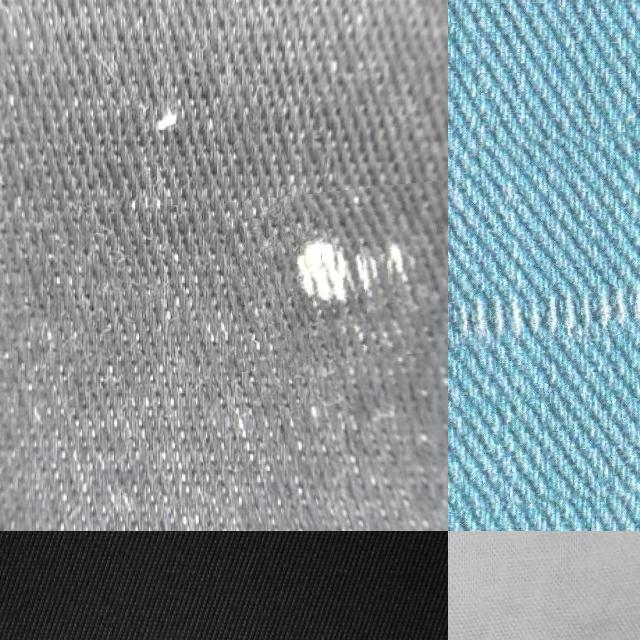stains: (448, 107, 640, 497), (225, 184, 448, 366)
